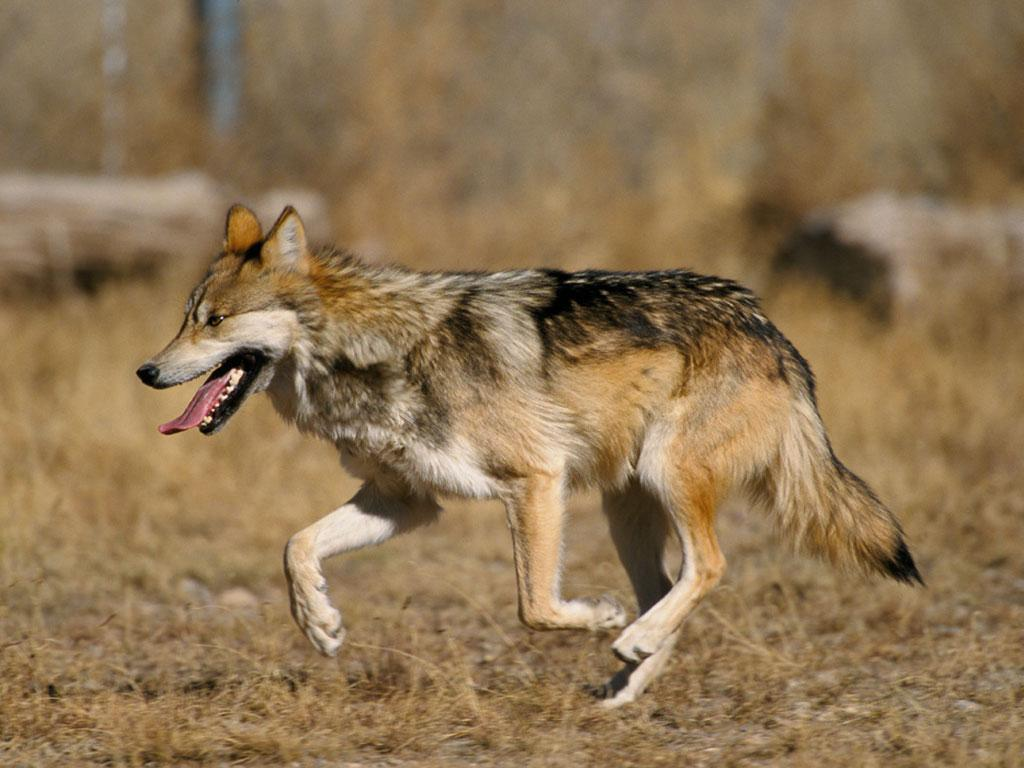Lobo: (124, 193, 962, 708)
